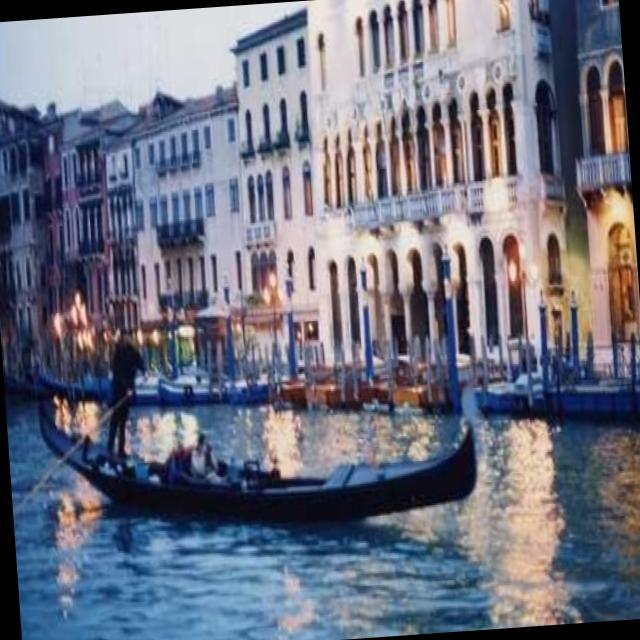boat: (24, 310, 492, 566)
